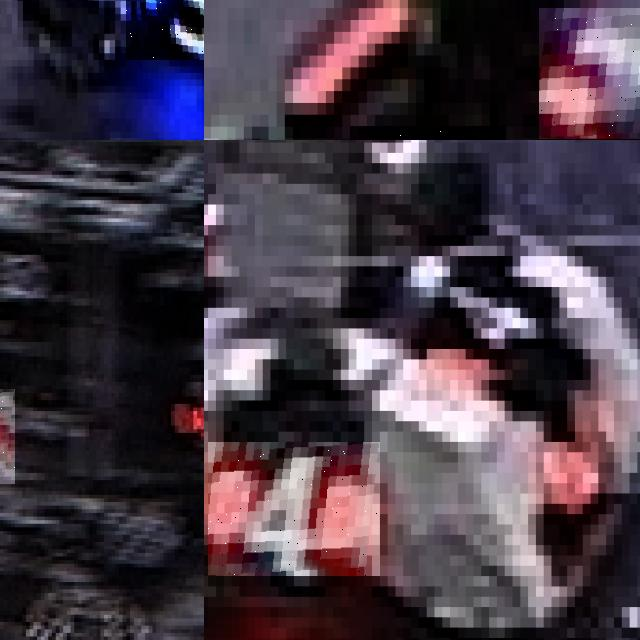B3: (126, 0, 204, 60)
R3: (539, 8, 640, 138)
R4: (208, 442, 380, 576)
